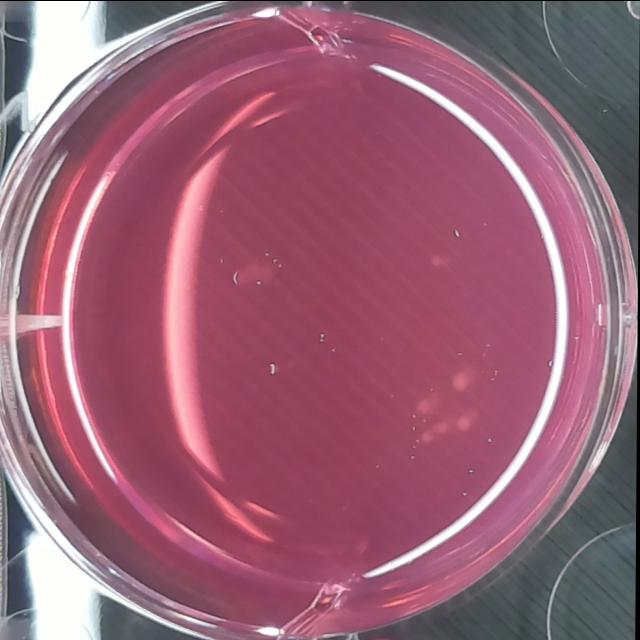StaphyloPositive: (227, 256, 280, 288), (447, 364, 473, 392), (411, 394, 436, 416), (455, 413, 476, 433), (427, 251, 446, 269), (418, 427, 434, 444), (433, 418, 450, 434)
